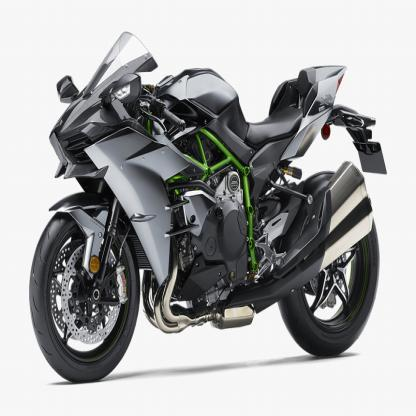Motorcycle: (23, 26, 398, 386)
